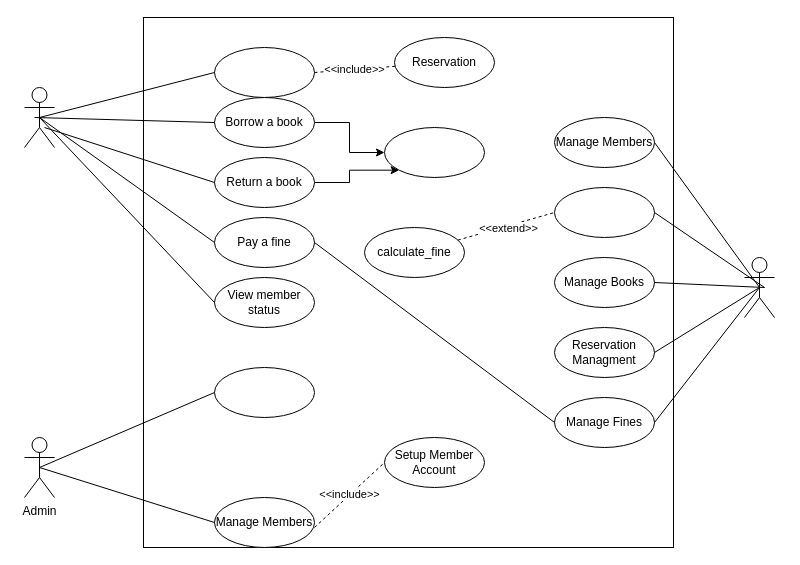
Some shapes in this 800 by 565 pixel diagram are drawn without their labels. The centre of each missing label's shape, as x and y in pixels:
"Admin Managment" goes at pixel 264 392.
"Books Transactions" goes at pixel 434 152.
"Librarian" goes at pixel 759 287.
"Loans And Returns" goes at pixel 604 212.
"Member" goes at pixel 39 117.
"search book" goes at pixel 264 72.
